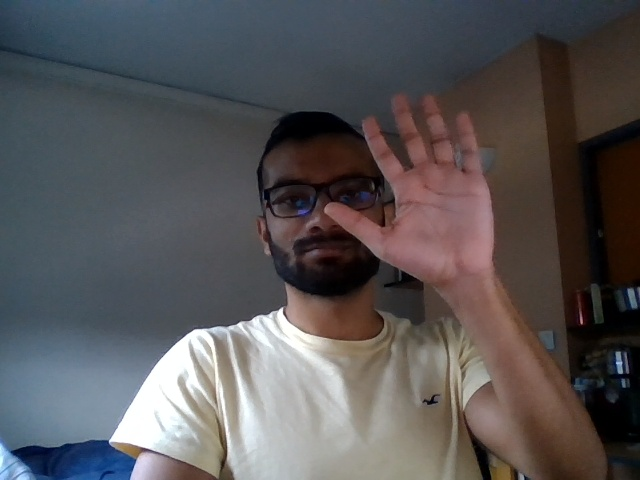Hello: (316, 88, 505, 276)
